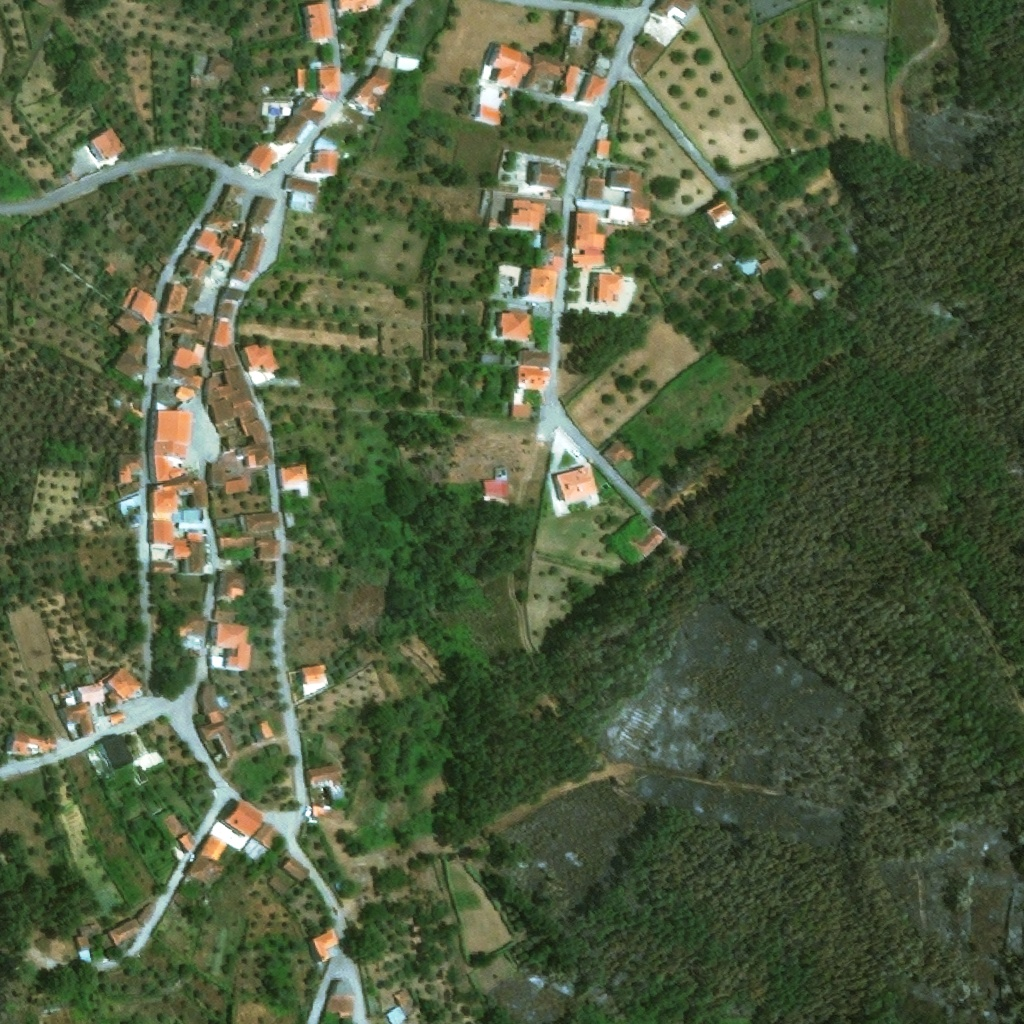0 no-damage: (206, 367, 270, 446), (200, 684, 240, 759), (274, 96, 330, 147), (154, 409, 191, 481), (608, 169, 653, 223), (214, 611, 253, 669), (152, 476, 209, 513), (188, 836, 228, 887), (192, 231, 244, 267), (353, 66, 391, 114), (574, 213, 606, 267), (297, 60, 337, 103), (557, 464, 599, 503), (242, 823, 281, 865), (494, 46, 532, 89), (307, 763, 349, 801), (96, 918, 142, 952), (224, 800, 265, 838), (218, 536, 279, 561), (119, 286, 158, 325), (529, 256, 564, 299), (232, 238, 264, 284), (114, 342, 150, 380), (106, 668, 142, 706), (526, 54, 565, 89), (163, 279, 200, 315), (166, 315, 213, 343), (88, 128, 126, 162), (174, 534, 206, 573), (101, 735, 135, 771), (12, 730, 57, 757), (62, 681, 109, 706), (325, 979, 355, 1018), (509, 199, 546, 230), (288, 178, 319, 215), (241, 342, 279, 372), (63, 702, 96, 736), (244, 143, 279, 175), (309, 137, 338, 175), (171, 610, 208, 639), (307, 2, 333, 41), (501, 311, 533, 341), (629, 527, 663, 555), (216, 185, 244, 219), (384, 989, 412, 1023), (236, 442, 276, 465), (247, 197, 277, 227), (311, 930, 339, 962), (173, 343, 206, 370), (733, 250, 763, 279), (117, 453, 145, 484), (157, 384, 194, 407), (634, 471, 663, 500), (598, 272, 624, 304), (813, 278, 842, 306), (483, 466, 509, 497), (110, 398, 143, 422), (220, 572, 249, 599), (115, 311, 144, 338), (519, 365, 549, 391), (604, 440, 635, 465), (204, 57, 236, 81), (282, 856, 310, 883), (74, 923, 102, 950), (211, 344, 241, 369), (180, 254, 208, 280), (584, 75, 609, 104), (246, 511, 279, 532), (562, 64, 582, 98), (133, 751, 163, 772), (538, 163, 562, 189), (313, 805, 348, 822), (269, 874, 292, 898), (708, 201, 733, 223), (478, 106, 503, 128), (250, 720, 276, 741), (281, 463, 307, 484), (212, 321, 231, 347), (118, 494, 141, 515), (137, 902, 157, 926), (576, 12, 601, 31), (152, 521, 173, 543), (585, 178, 605, 201), (523, 351, 550, 368), (205, 215, 232, 232), (301, 664, 328, 681), (546, 231, 566, 253), (760, 258, 779, 280), (207, 463, 225, 486), (221, 287, 245, 302), (225, 478, 245, 496), (177, 833, 195, 852), (217, 303, 236, 319), (596, 140, 611, 160), (61, 658, 82, 672), (284, 508, 298, 529), (150, 563, 173, 574), (79, 949, 93, 967), (102, 263, 117, 279), (482, 354, 499, 366), (108, 325, 122, 339), (334, 881, 347, 896), (51, 693, 63, 706), (505, 355, 512, 365), (500, 92, 507, 100)
4 un-classified: (757, 285, 813, 341), (652, 0, 695, 16), (337, 0, 368, 13)
